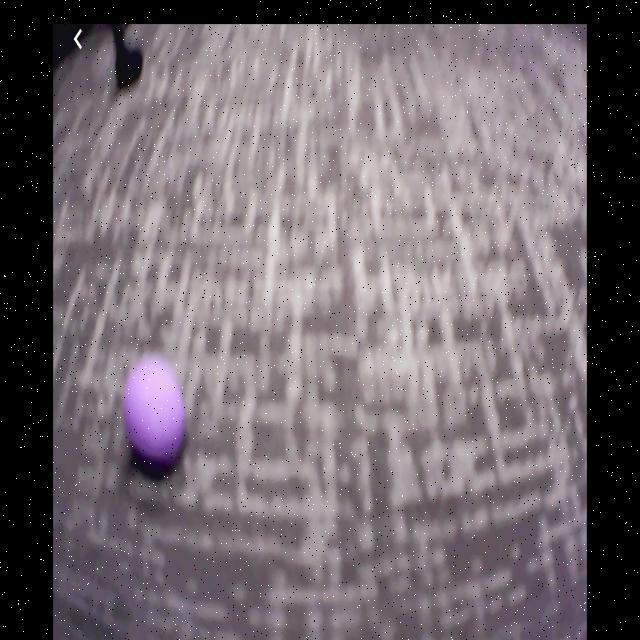ball: (124, 361, 185, 463)
